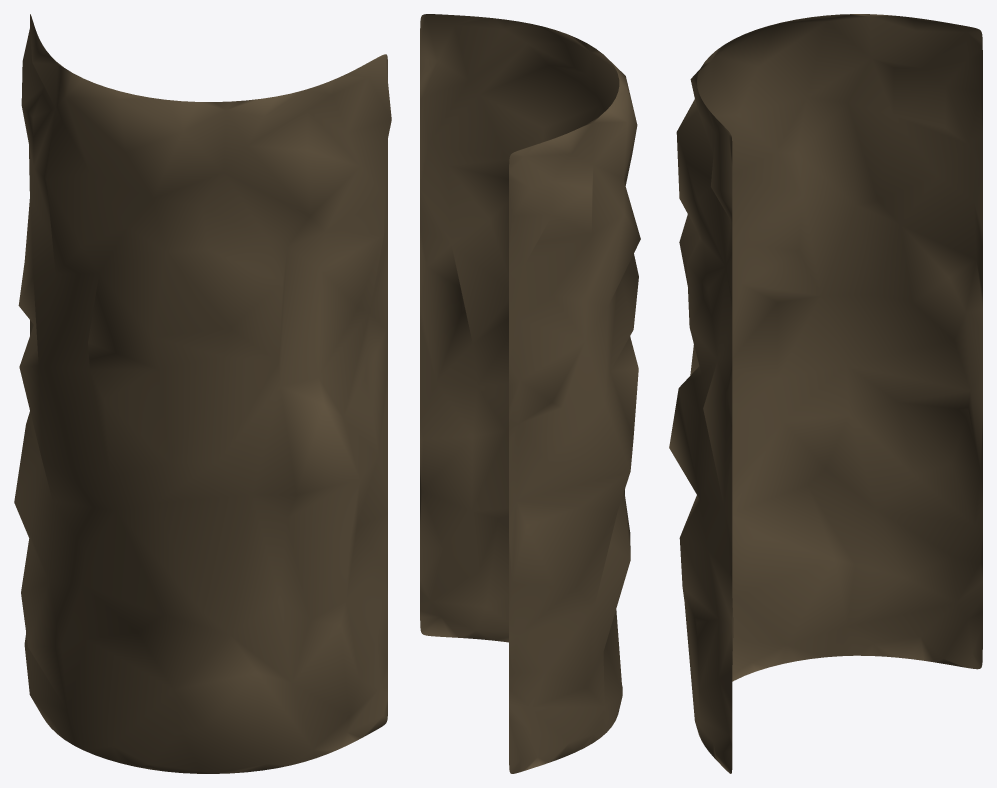
File: BlocksRock_01.fbx
3 renders of one model, left to right at view 1: azimuth 30°, elevation 25°; view 2: azimuth 150°, elevation 25°; view 3: azimuth 270°, elevation 25°, orthographic. The views are drawn at different scales.
Parts seen in each view (by area): view 1: BlockRock_01_Rise; view 2: BlockRock_01_Rise; view 3: BlockRock_01_Rise.
Boxes of the visible parts, bbox=[...] form: BlockRock_01_Rise: bbox=[14, 14, 391, 773]; BlockRock_01_Rise: bbox=[420, 14, 640, 773]; BlockRock_01_Rise: bbox=[669, 14, 982, 773].
Size of the model in its own units: 893 by 2000 by 886.
